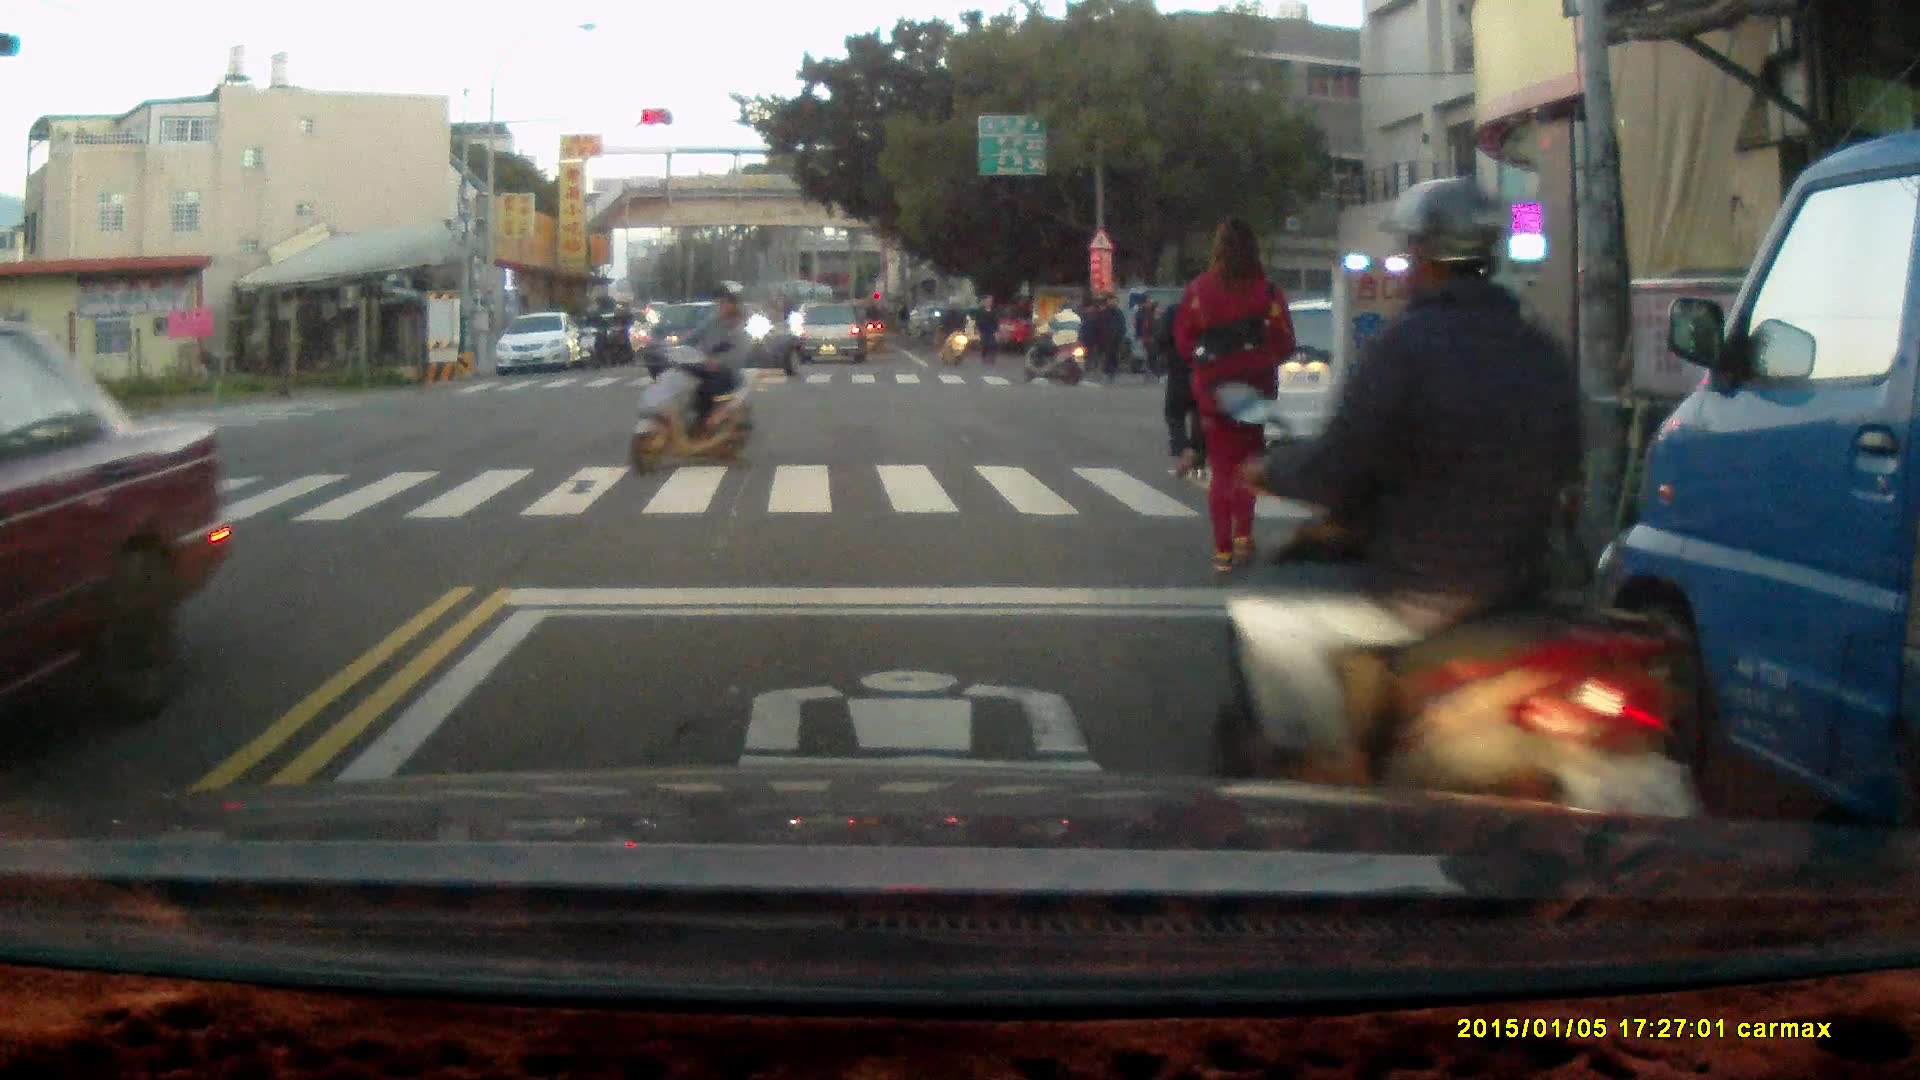pedestrian: (1175, 215, 1297, 576), (1151, 261, 1235, 483), (1092, 290, 1125, 385), (1139, 298, 1164, 381), (976, 292, 1000, 367)
rider: (1215, 171, 1688, 880), (627, 281, 763, 479), (1023, 296, 1088, 388), (930, 294, 972, 370), (575, 302, 607, 370), (602, 301, 632, 363)
vehicle: (1598, 132, 1920, 880), (1, 327, 227, 745), (1233, 296, 1533, 459), (641, 303, 808, 387), (498, 313, 586, 377), (793, 302, 872, 367)
